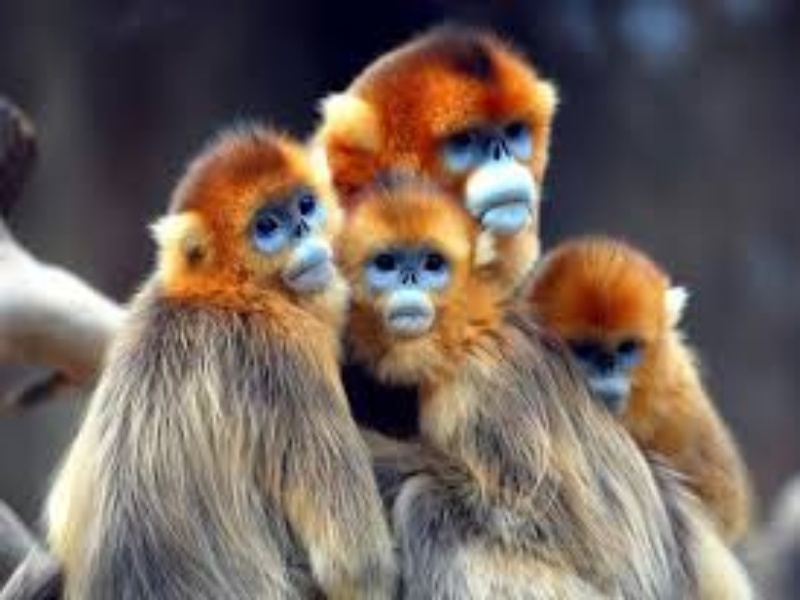monkey: (107, 35, 758, 546)
